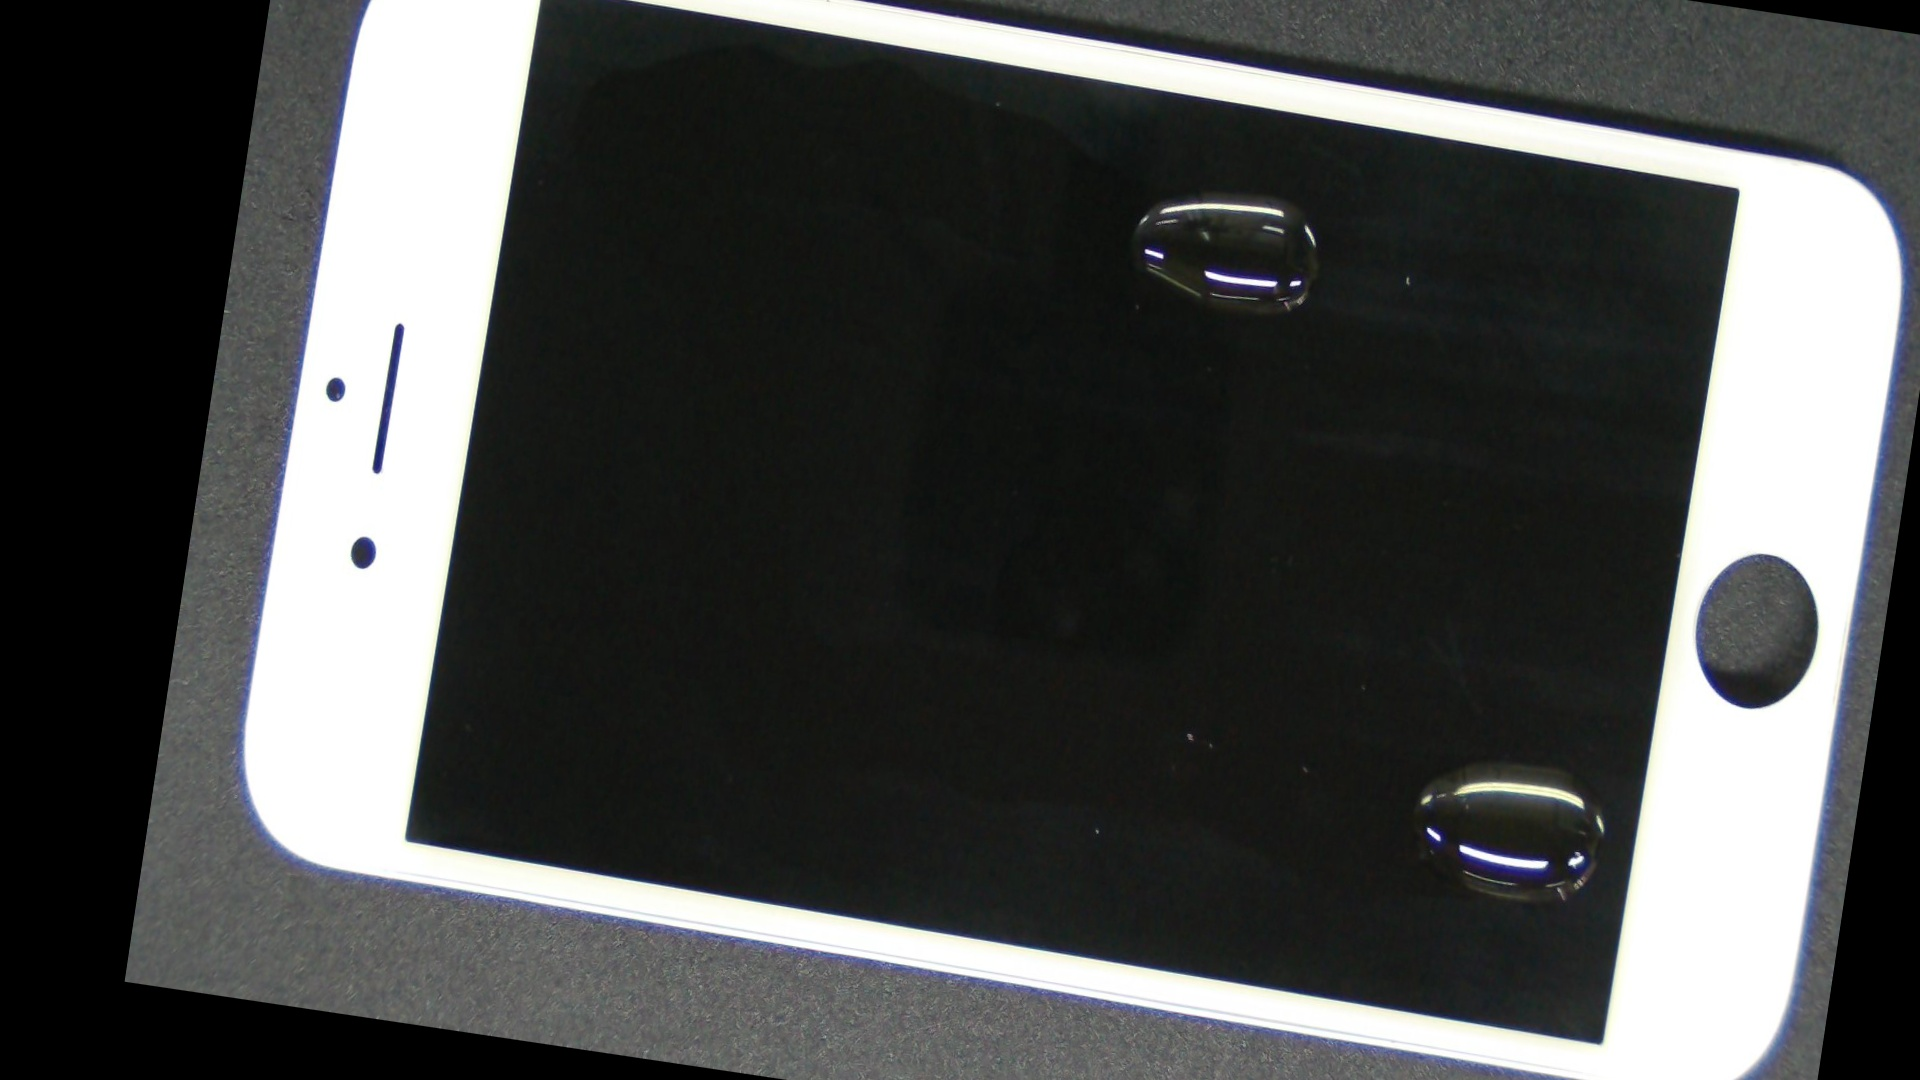oil: (808, 280, 1915, 1080), (733, 0, 1747, 392)
